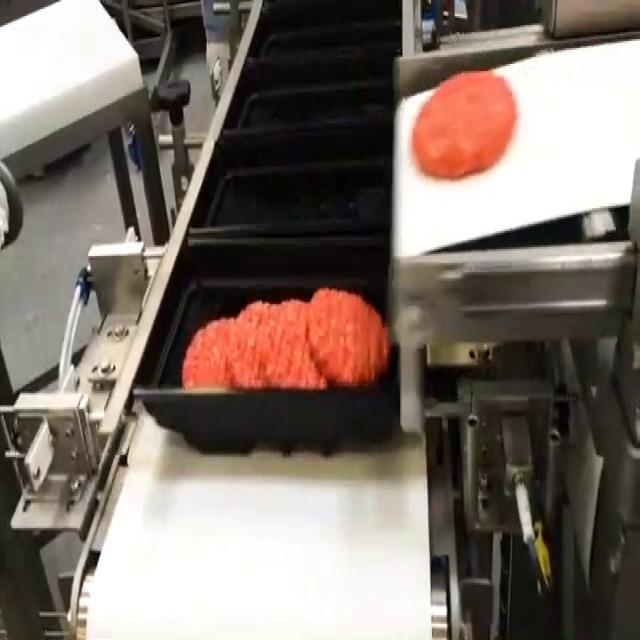4-hamburguer: (181, 288, 389, 389)
